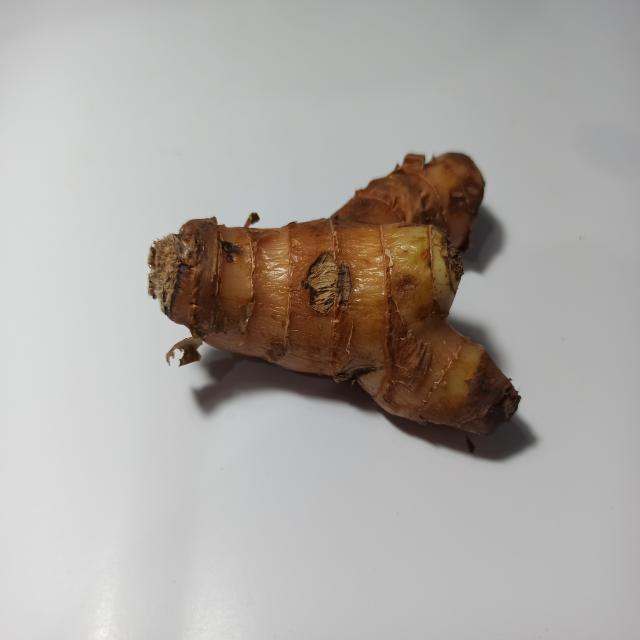ginger: (148, 137, 529, 434)
